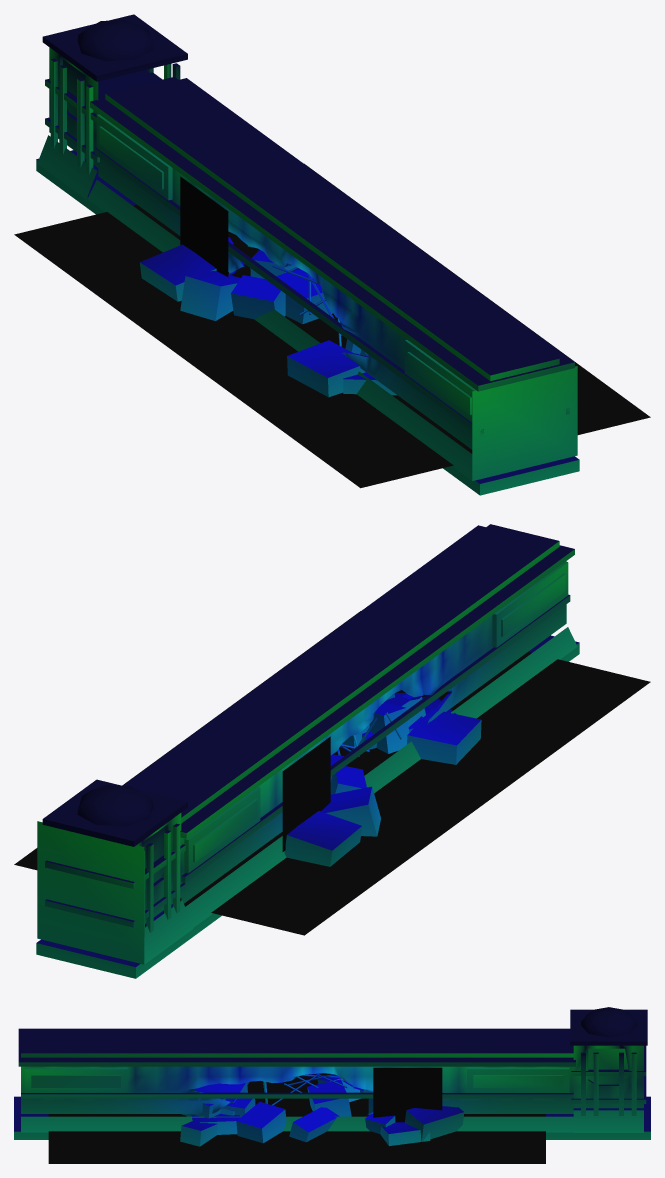
The model's file is d_lightwall_damaged.glb.
The picture shows the model from 3 angles, top to bottom: view 1: azimuth 30°, elevation 25°; view 2: azimuth 150°, elevation 25°; view 3: azimuth 270°, elevation 25°; orthographic projection. The views are drawn at different scales.
Parts seen in each view (by area): view 1: lod0; view 2: lod0; view 3: lod0.
Boxes of the visible parts, bbox=[...] form: lod0: bbox=[14, 14, 650, 495]; lod0: bbox=[14, 524, 650, 978]; lod0: bbox=[14, 1007, 650, 1163].
Size of what is drawn, in the model's own units: 10.5 by 5.36 by 27.79.
